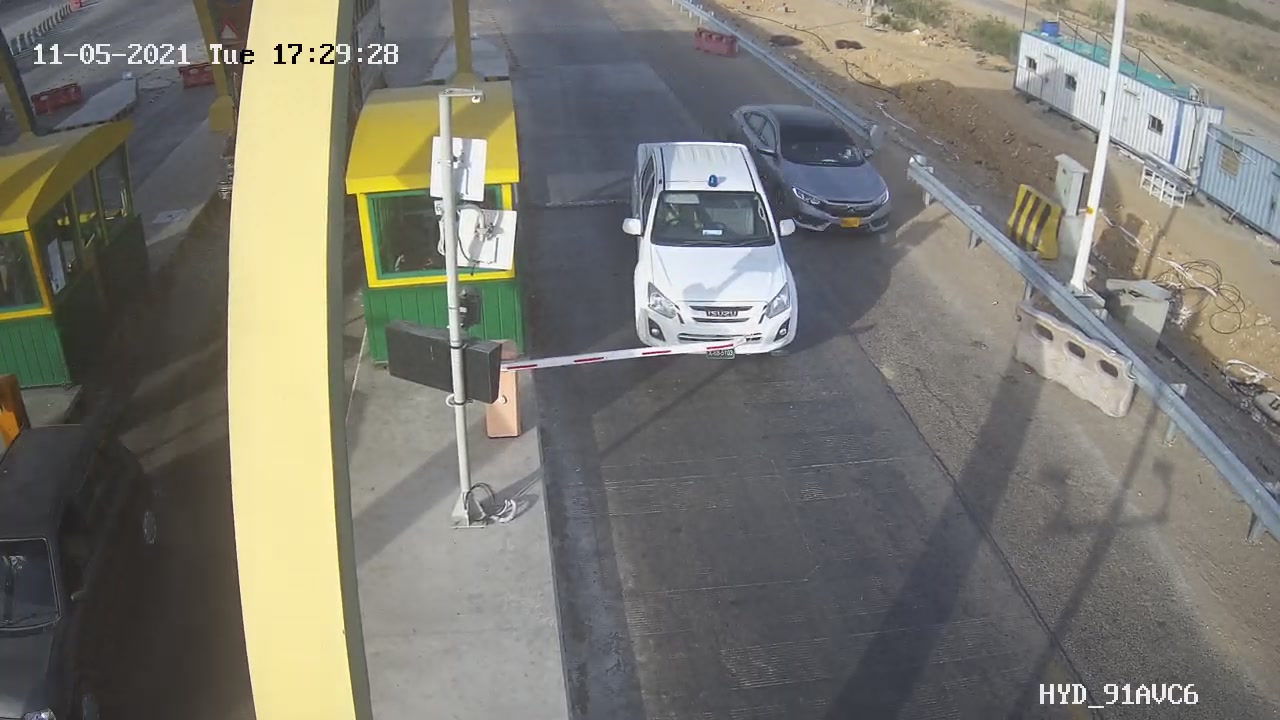F1: (608, 125, 817, 374), (717, 79, 904, 253)
